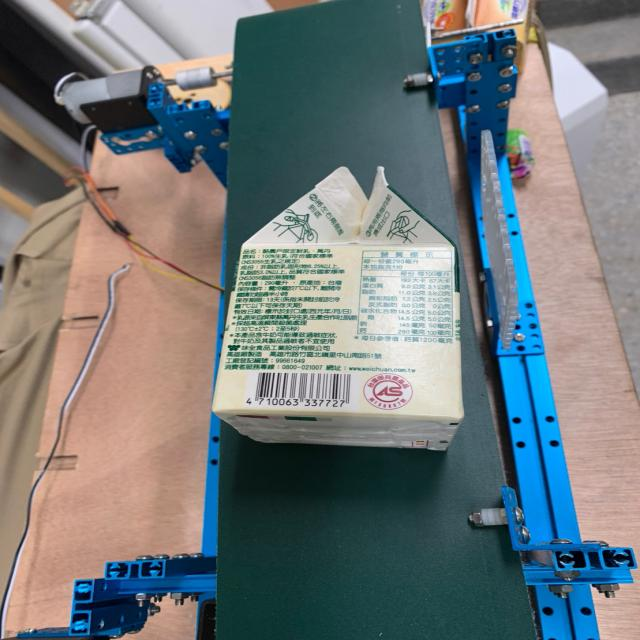non_white_jug: (184, 162, 474, 452)
